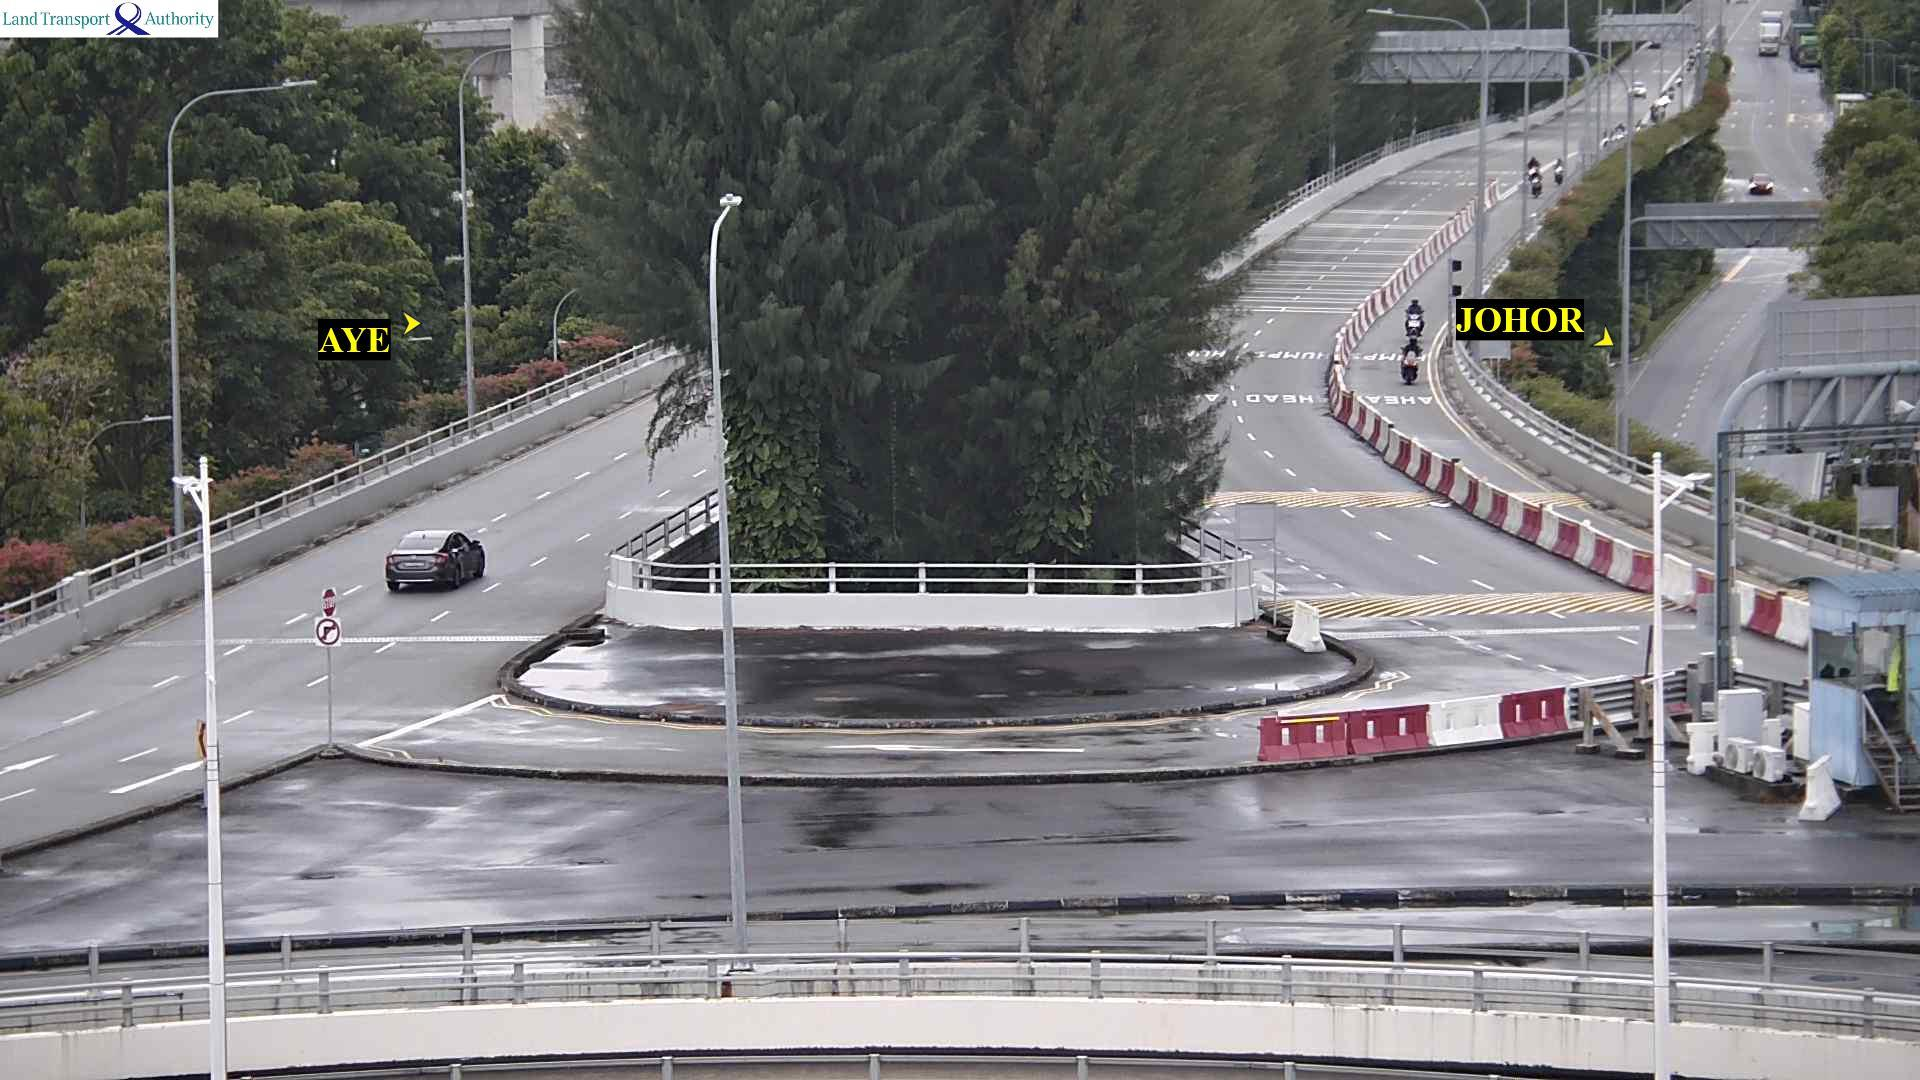vehicle-secondlink-johor: (1402, 336, 1420, 380), (1406, 298, 1423, 336), (1531, 175, 1544, 196), (1556, 160, 1564, 182), (1528, 157, 1536, 177)
vehicle-secondlink-singapore: (388, 526, 484, 593)
